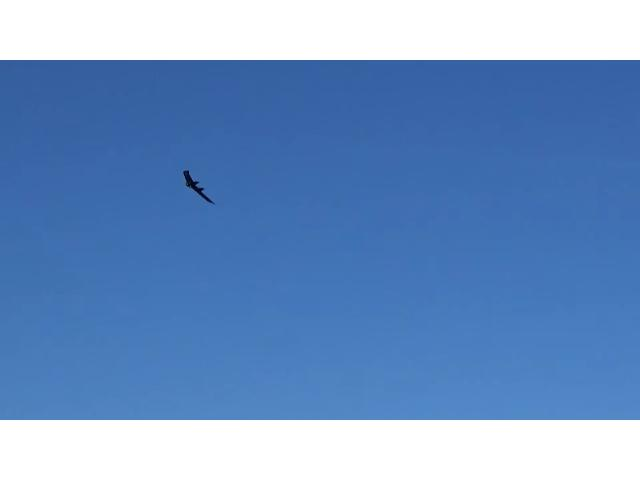Anti-Drone: (172, 160, 224, 212)
